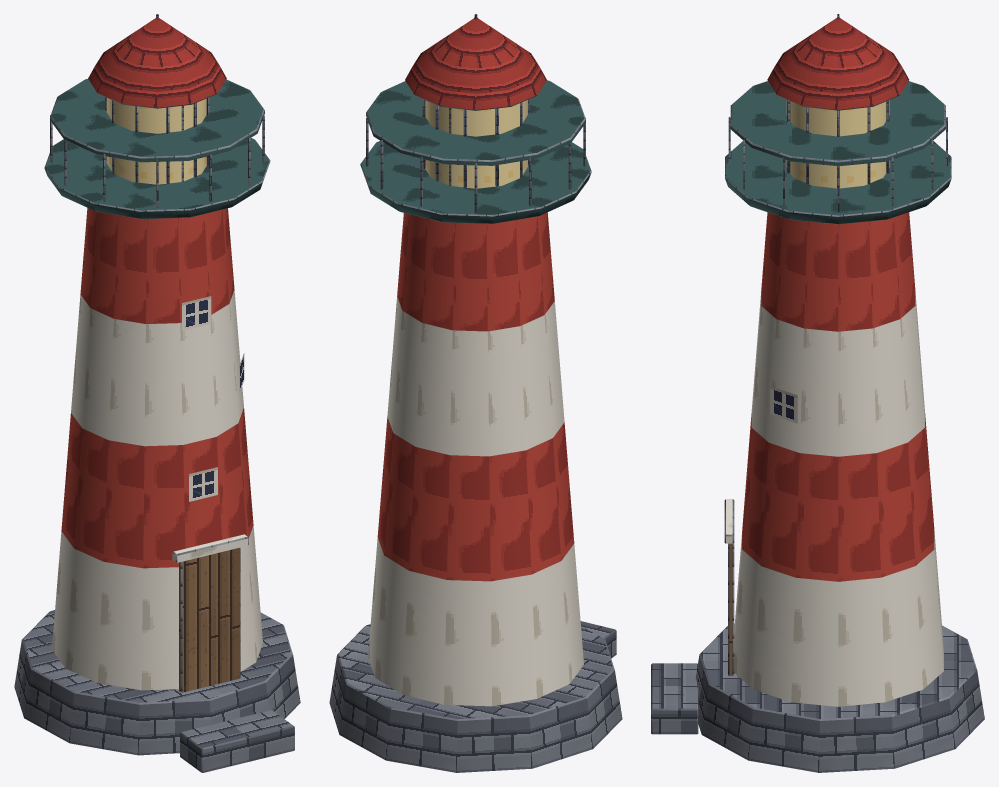
The model's file is lighthouse_3.glb.
3 renders of one model, left to right at view 1: azimuth 30°, elevation 25°; view 2: azimuth 150°, elevation 25°; view 3: azimuth 270°, elevation 25°, orthographic. The views are drawn at different scales.
Parts seen in each view (by area): view 1: lighthouse_4; view 2: lighthouse_4; view 3: lighthouse_4.
Part boxes in pixels (x1,y1,x2,y2): lighthouse_4: [14, 14, 300, 772]; lighthouse_4: [329, 14, 622, 772]; lighthouse_4: [651, 14, 984, 772].
Size of the model in its own units: 3.72 by 9.76 by 4.24.
10 materials, 10 textured.
